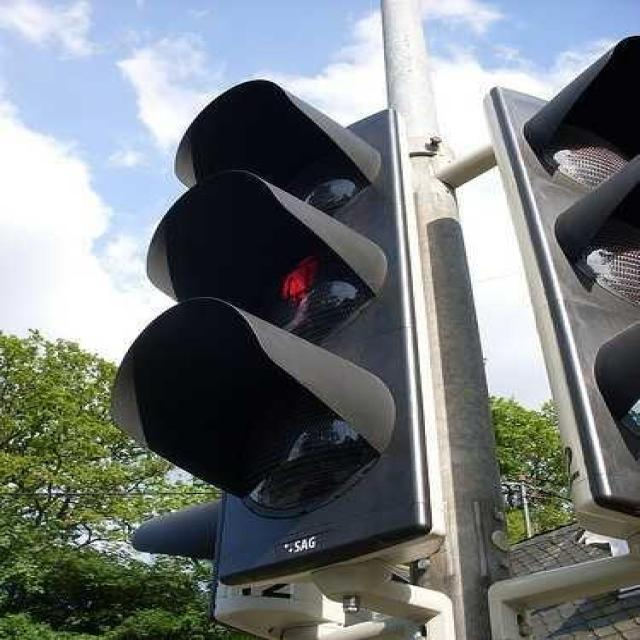Traffic Light -Yellow-: (89, 68, 438, 601)
